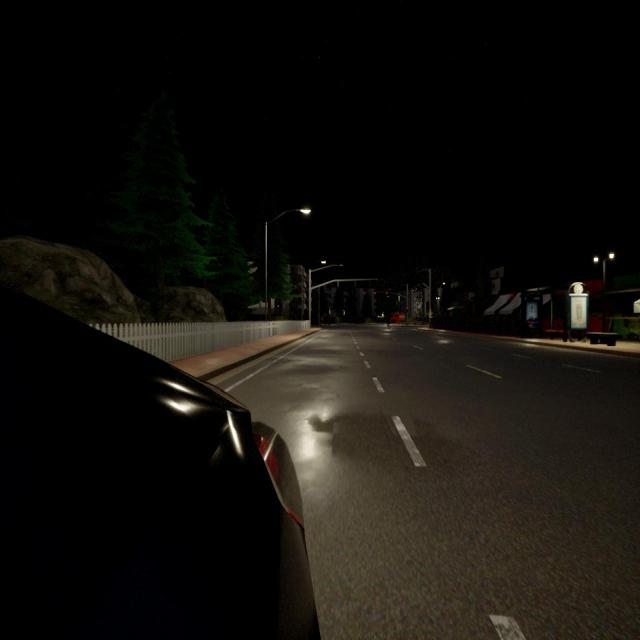Vehicle: (0, 286, 319, 640), (390, 313, 405, 324)
traffic_light: (373, 292, 376, 296), (406, 306, 408, 312), (364, 292, 366, 296), (386, 292, 388, 296)
